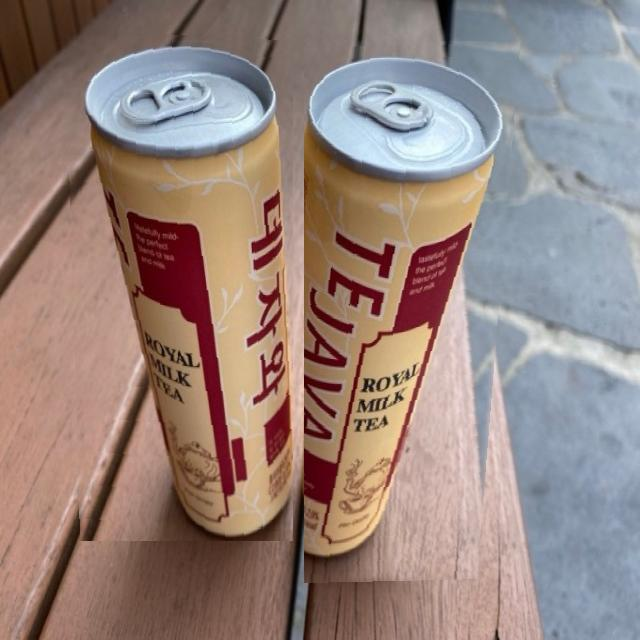Cans: (304, 41, 521, 584), (65, 29, 293, 541)
